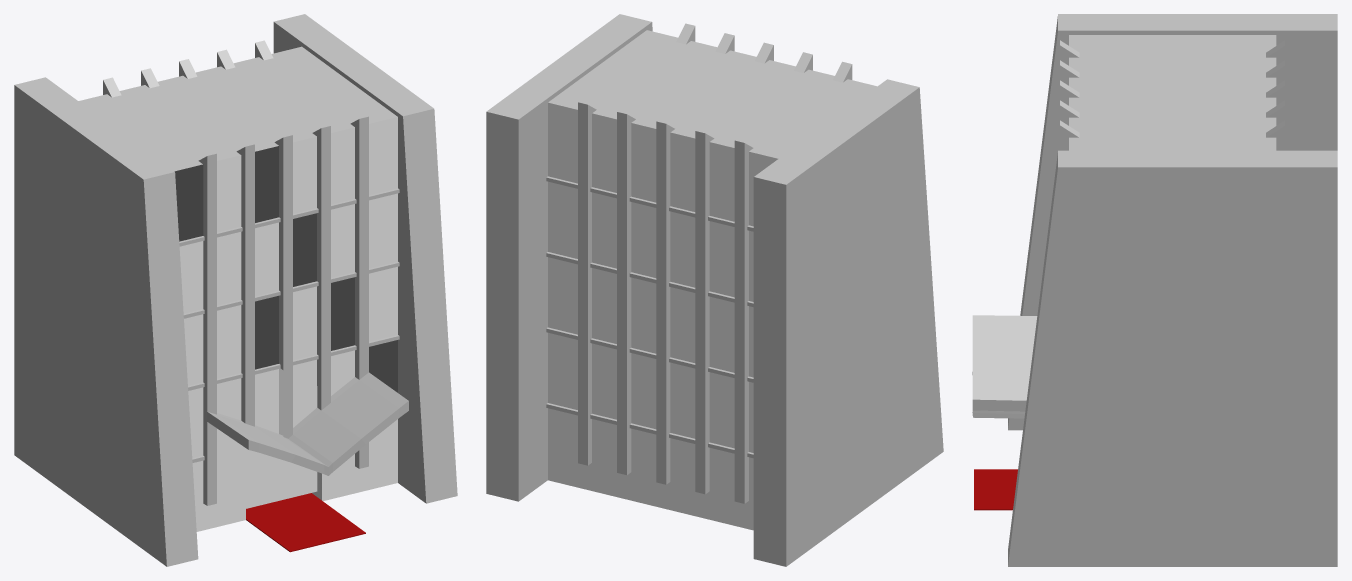
Rendered from bank_hq.gltf.
3 views of the same model, side by side, from view 1: azimuth 30°, elevation 25°; view 2: azimuth 150°, elevation 25°; view 3: azimuth 270°, elevation 25° (orthographic). The views are drawn at different scales.
Parts seen in each view (by area): view 1: HQ-Final; view 2: HQ-Final; view 3: HQ-Final.
Boxes of the visible parts, x1,y1,x2,y2 form: HQ-Final: (14, 14, 457, 566); HQ-Final: (486, 14, 943, 566); HQ-Final: (972, 14, 1337, 566).
Bounding box in the file's own units: 4.28 × 5.31 × 4.31.
Materials: 3 (1 with a texture image).
